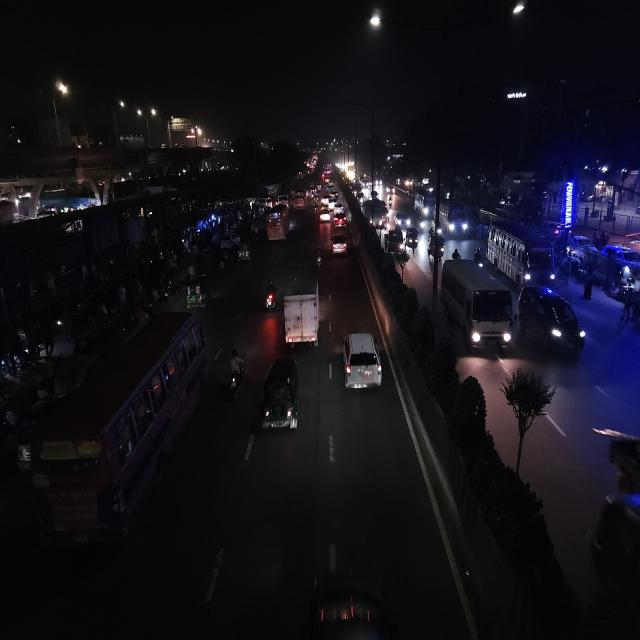bus: (25, 305, 205, 559), (438, 257, 516, 354), (486, 216, 558, 287), (264, 201, 290, 247), (441, 199, 469, 241), (415, 191, 437, 219), (292, 190, 306, 212)
car: (517, 280, 587, 364), (340, 328, 384, 399), (365, 198, 389, 230), (329, 230, 349, 258), (395, 209, 411, 231), (334, 212, 348, 230), (318, 206, 331, 224), (327, 192, 338, 208)
cng: (258, 353, 301, 439), (184, 270, 210, 309), (426, 229, 445, 267), (405, 225, 420, 254), (236, 239, 252, 265)
motorcycle: (226, 345, 246, 402), (263, 277, 278, 316), (472, 246, 486, 272), (316, 245, 324, 272), (451, 245, 461, 262)
pedestrian: (619, 284, 639, 321)
pickup_van: (385, 228, 404, 253)
truck: (282, 270, 324, 353)
